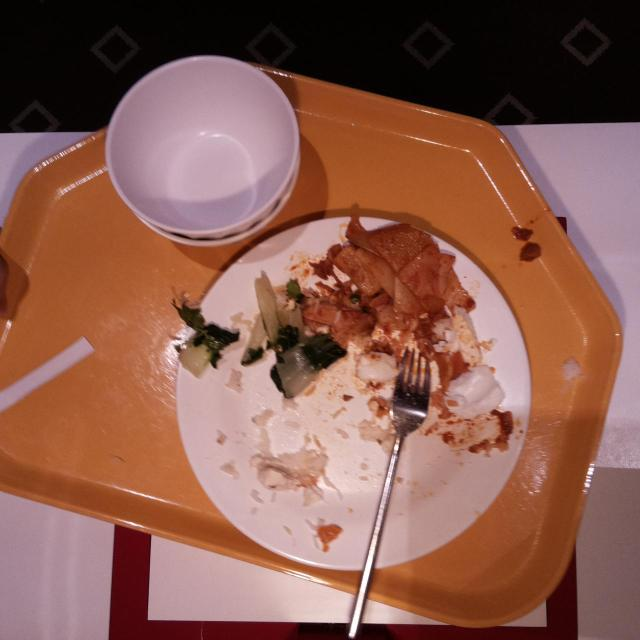Meat: (344, 212, 432, 278), (333, 243, 395, 297)
Vegetable: (268, 328, 348, 396), (173, 300, 239, 376)
